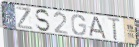2: (52, 11, 70, 36)
A: (87, 16, 108, 40)
G: (70, 13, 87, 37)
S: (34, 9, 51, 33)
T: (108, 17, 122, 42)
Z: (16, 6, 35, 31)
